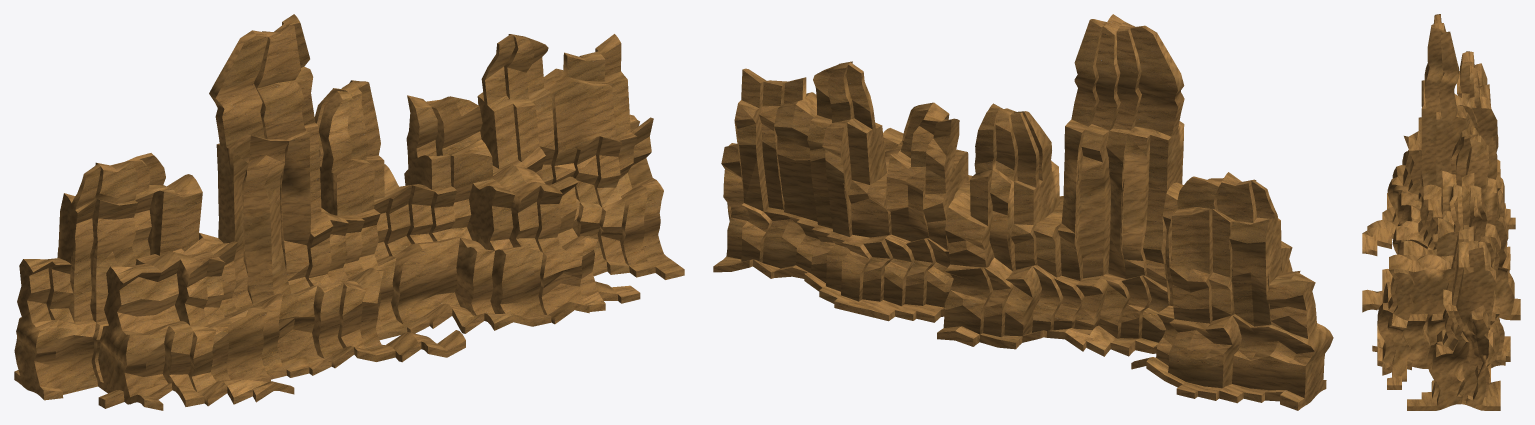
File: Mountain Sand Test4 1.fbx
The picture shows the model from 3 angles, left to right: view 1: azimuth 30°, elevation 25°; view 2: azimuth 150°, elevation 25°; view 3: azimuth 270°, elevation 25°; orthographic projection. The views are drawn at different scales.
Visible parts, largest first — view 1: Plane; view 2: Plane; view 3: Plane.
Boxes of the visible parts, bbox=[...] form: Plane: bbox=[14, 14, 684, 410]; Plane: bbox=[713, 14, 1333, 410]; Plane: bbox=[1362, 14, 1520, 410].
Size of the model in its own units: 4960 by 2517 by 1464.
